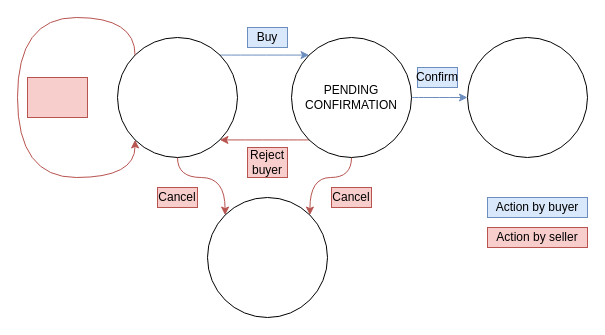
This 605x335 diagram has some shape labels left out. Here are the shapes that lost their labels. From the top down, the centre of each, then its label:
the point at 57,97: Set properties
the point at 177,97: WAITING BUYER
the point at 527,97: COMPLETED
the point at 267,257: CANCELLED
